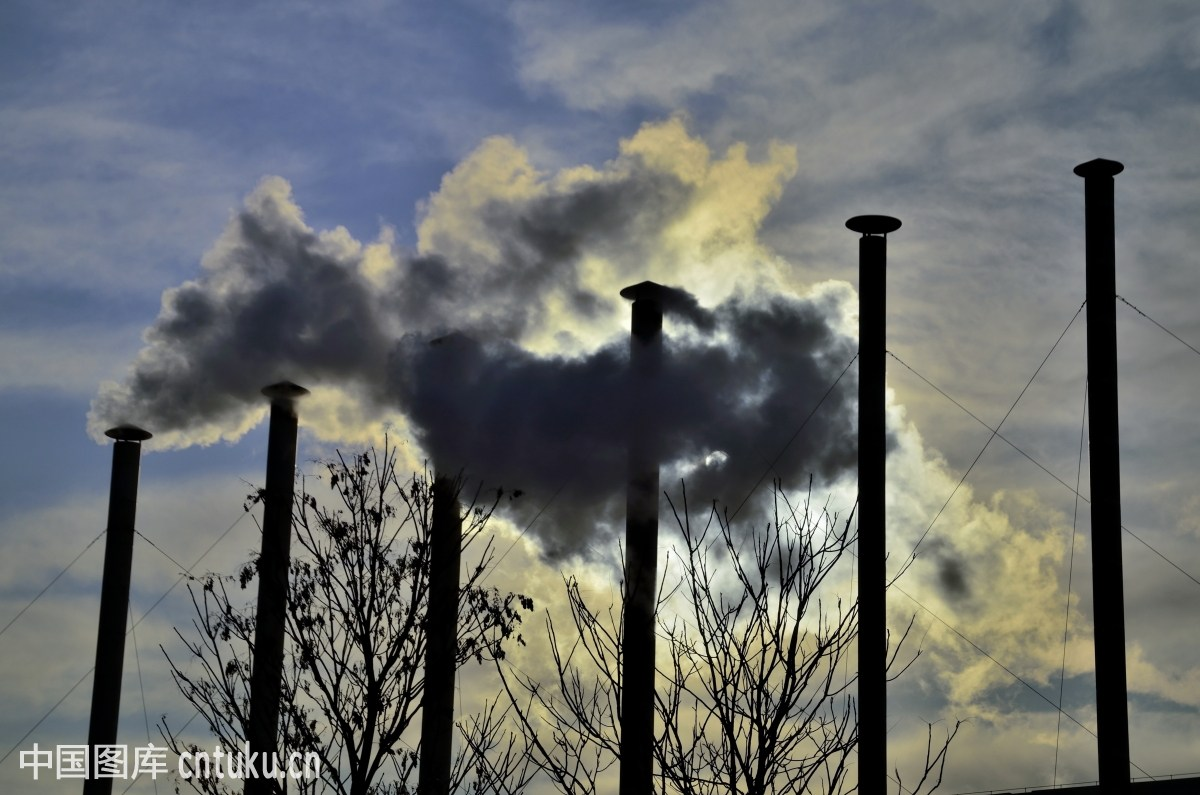dust: (378, 241, 881, 506), (80, 201, 370, 450)
